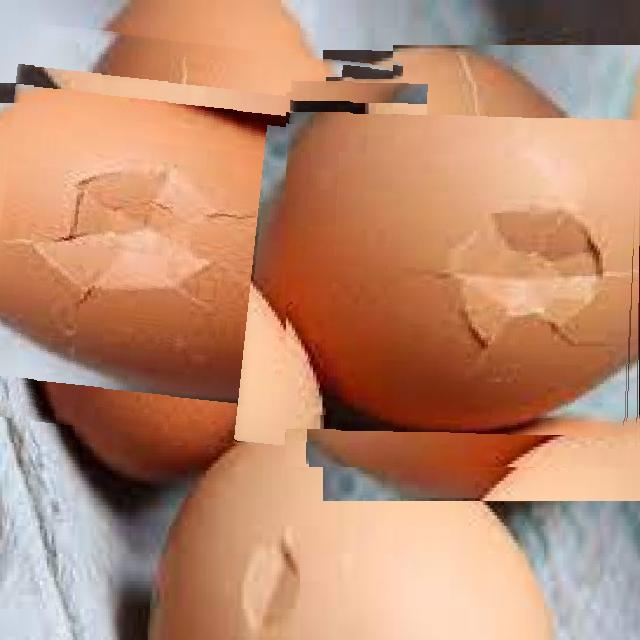biodegradable: (0, 31, 393, 445), (286, 77, 640, 467)
